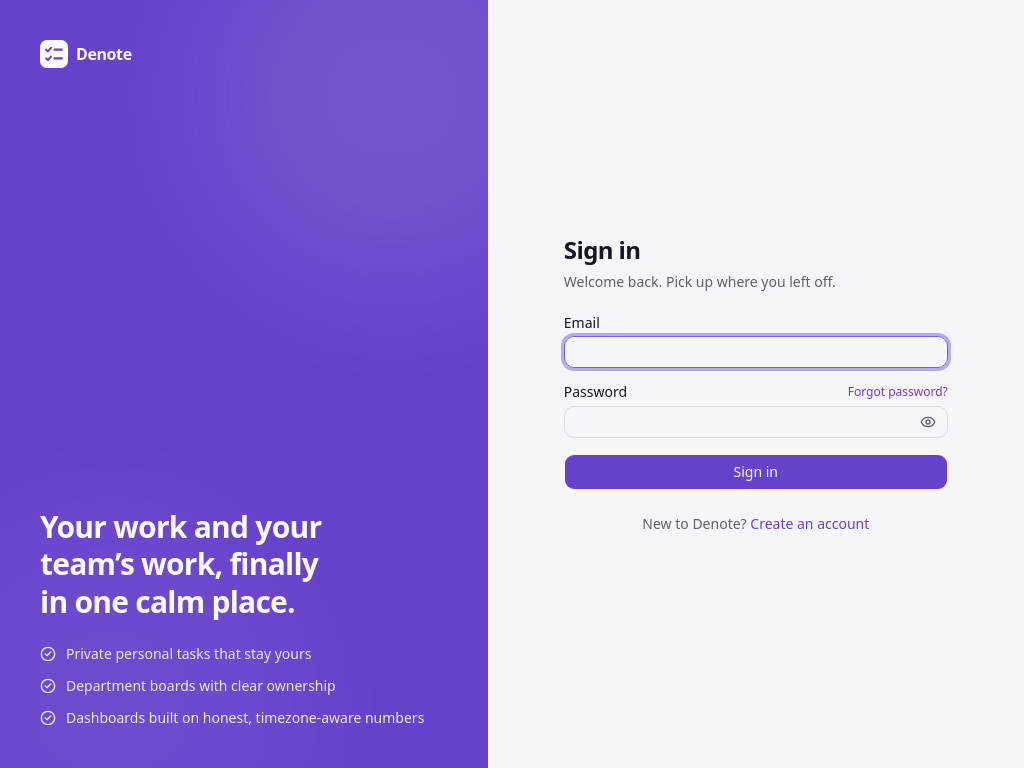
Test: sign in › shows the generic error for bad credentials and clears the password
Step 1. Type "ada@example.com" into the field labelled "Email" → coordinates (756, 352), box 564,336 -> 948,368
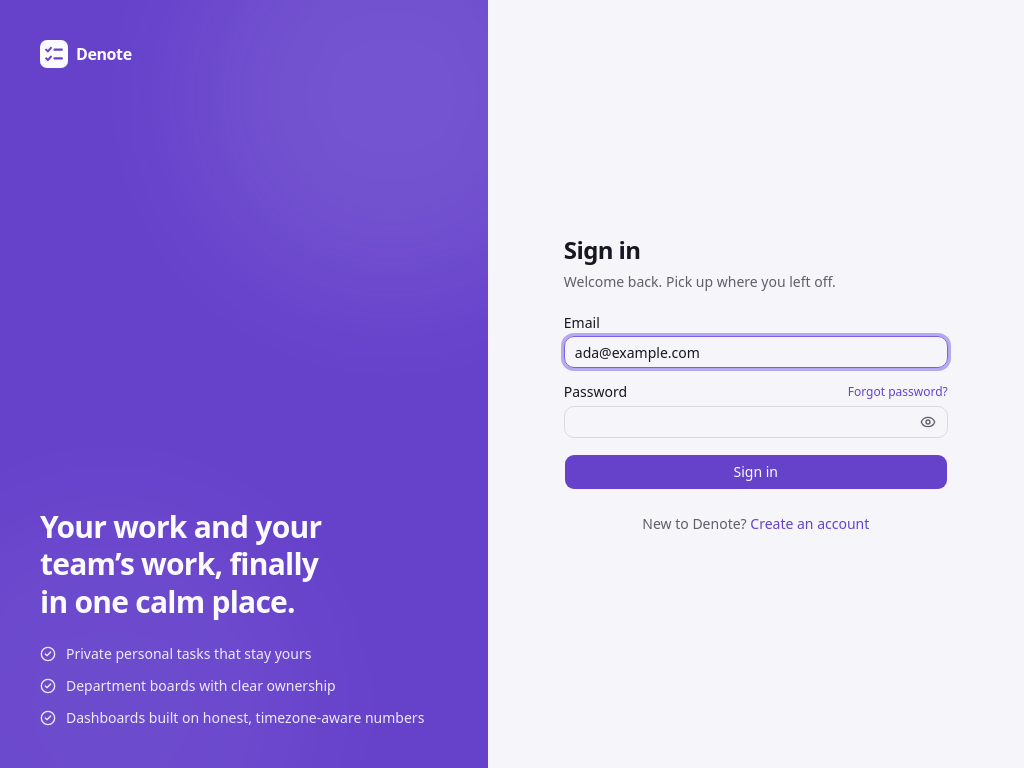
Step 2. Type "wrong password!!" into the password field labelled "Password" → coordinates (756, 422), box 564,406 -> 948,438
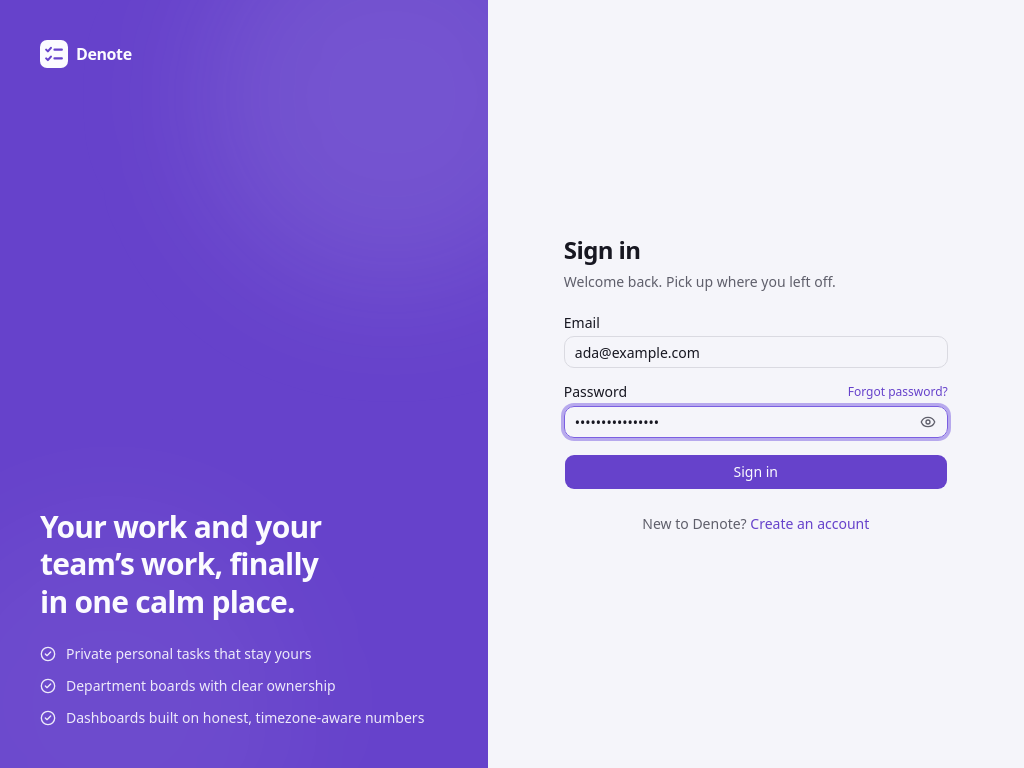
Step 3. Click the button "Sign in" → coordinates (756, 472), box 564,454 -> 948,490
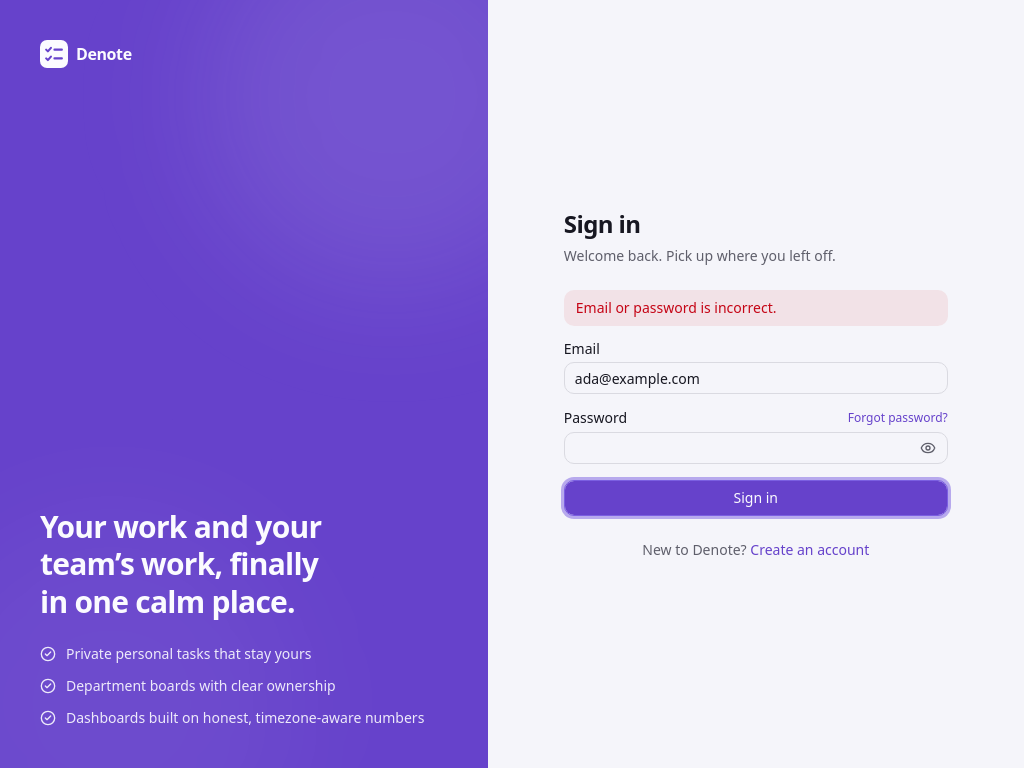
Check: the text "Email or password is incorrect." is shown, box 564,290 -> 948,326
Check: the password field labelled "Password" is empty, box 564,432 -> 948,464
